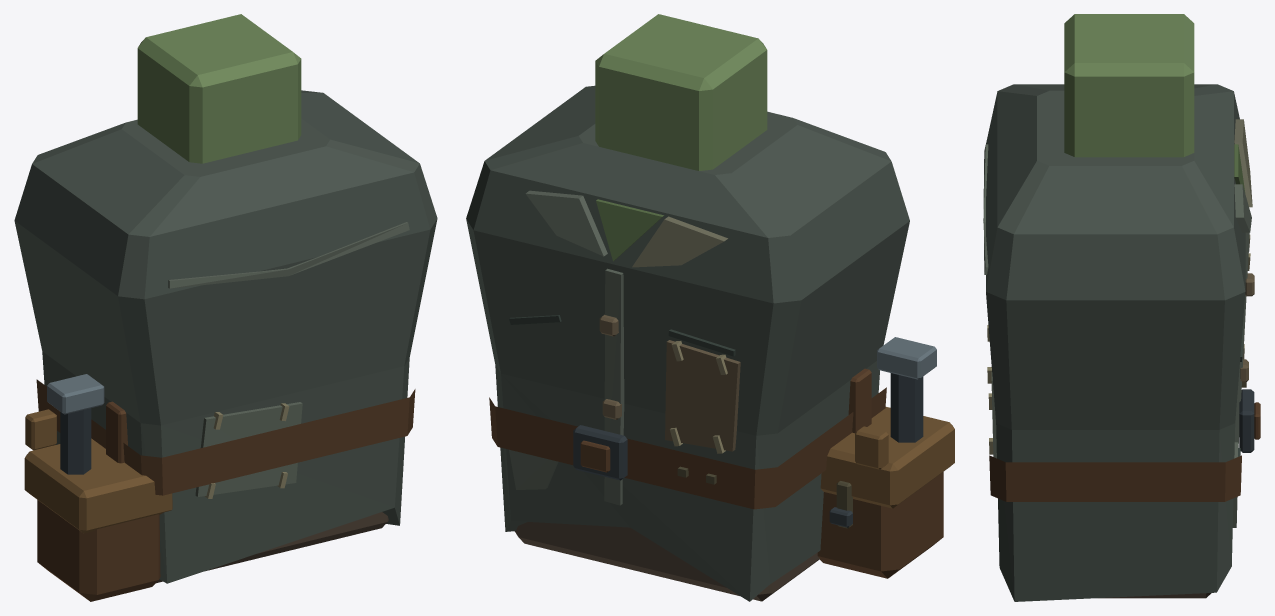
Rendered from Body.glb.
3 renders of one model, left to right at view 1: azimuth 30°, elevation 25°; view 2: azimuth 150°, elevation 25°; view 3: azimuth 270°, elevation 25°, orthographic. The views are drawn at different scales.
Visible parts, largest first — view 1: Sculpture; view 2: Sculpture; view 3: Sculpture.
Part boxes in pixels (x1=…): Sculpture: x1=14, y1=14, x2=437, y2=601; Sculpture: x1=466, y1=14, x2=954, y2=601; Sculpture: x1=983, y1=14, x2=1260, y2=601.
Bounding box in the file's own units: 0.643 × 0.81 × 0.4055.
